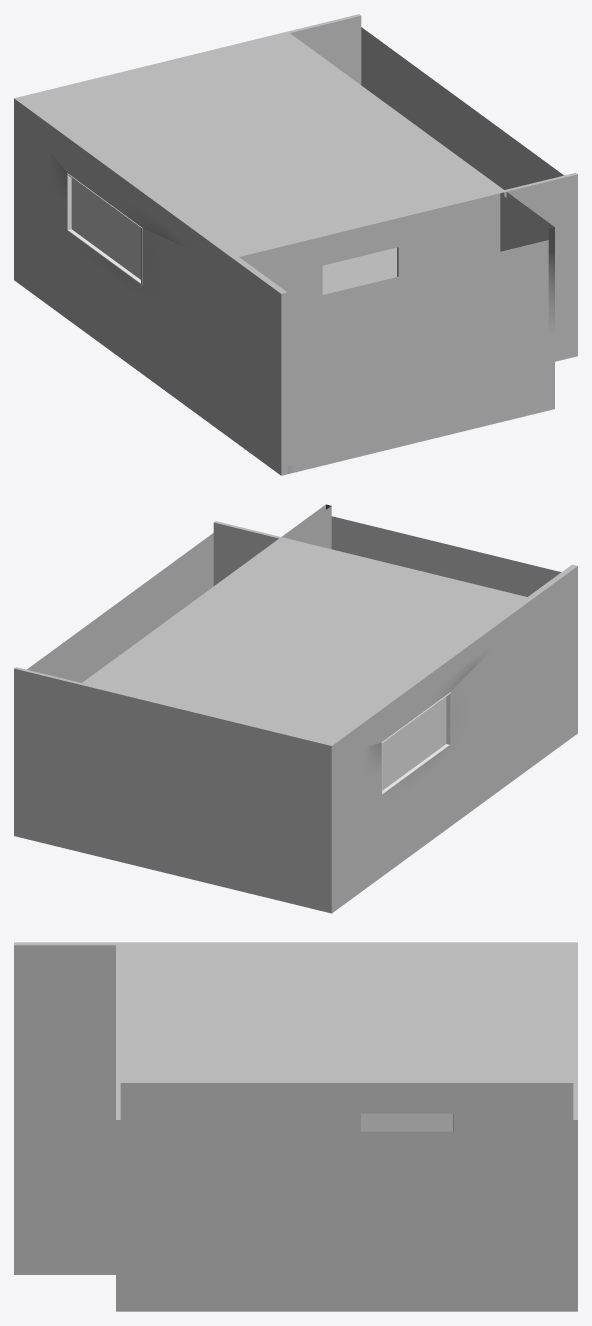
Rendered from kitchen.fbx.
The picture shows the model from 3 angles, top to bottom: view 1: azimuth 30°, elevation 25°; view 2: azimuth 150°, elevation 25°; view 3: azimuth 270°, elevation 25°; orthographic projection. The views are drawn at different scales.
Visible parts, largest first — view 1: Kitchen, Window, Door; view 2: Kitchen, Window; view 3: Kitchen, Door.005.
Part boxes in pixels (x1=…): Kitchen: x1=14, y1=14, x2=577, y2=475; Window: x1=67, y1=173, x2=142, y2=285; Door: x1=322, y1=247, x2=396, y2=294; Kitchen: x1=14, y1=504, x2=577, y2=913; Window: x1=381, y1=692, x2=450, y2=795; Kitchen: x1=14, y1=942, x2=577, y2=1311; Door.005: x1=361, y1=1113, x2=453, y2=1131.
Bounding box in the file's own units: 1769 × 889 × 2369.
11 materials, 6 textured.
